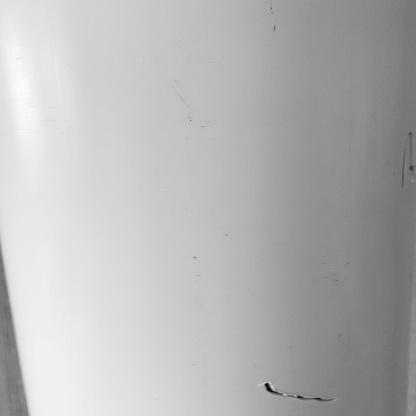fengxi: (252, 368, 348, 408), (394, 128, 416, 198)
